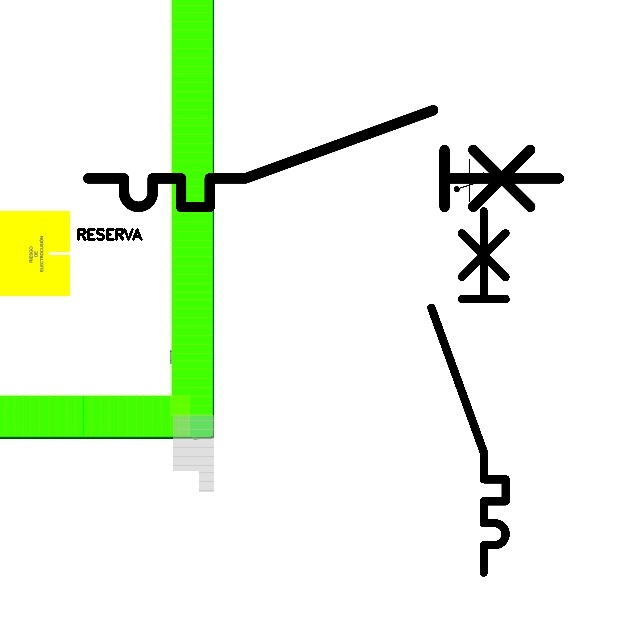interruptor_termomagnetico: (76, 98, 571, 219), (422, 202, 515, 582)
